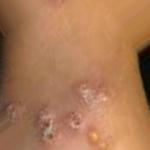Ants: (68, 80, 112, 112), (36, 107, 62, 146), (84, 126, 112, 150), (0, 97, 22, 126), (63, 111, 83, 131)
